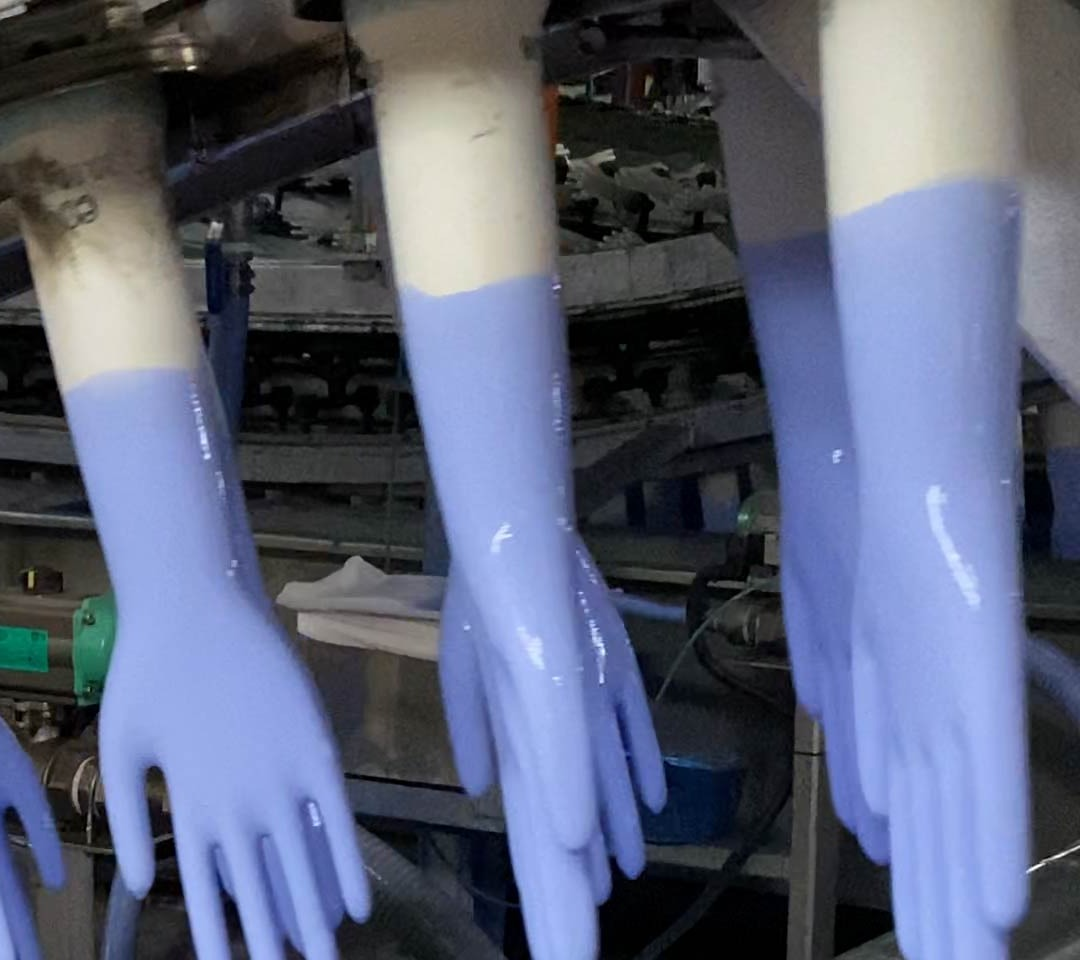glove: (61, 360, 371, 960), (397, 281, 670, 958), (825, 176, 1025, 960)
